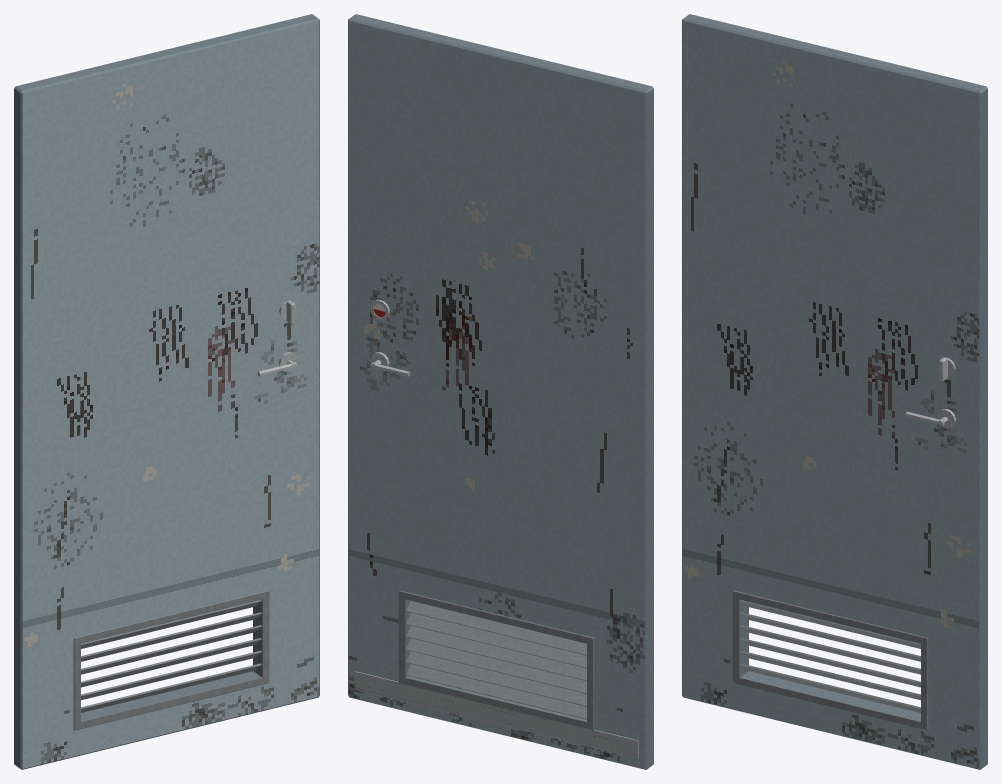
File: door_wc_4.glb
3 renders of one model, left to right at view 1: azimuth 30°, elevation 25°; view 2: azimuth 150°, elevation 25°; view 3: azimuth 330°, elevation 25°, orthographic.
Parts seen in each view (by area): view 1: leaf_body, grille_slats, grille_frame_front; view 2: leaf_body, grille_slats, kick_plate, grille_frame_back; view 3: leaf_body, grille_slats, grille_frame_front.
Boxes of the visible parts, x1,y1,x2,y2 form: leaf_body: (14,14,319,769); grille_slats: (81,600,261,712); grille_frame_front: (73,590,269,730); leaf_body: (348,14,653,769); grille_slats: (406,601,586,719); kick_plate: (354,671,638,758); grille_frame_back: (398,590,594,730); leaf_body: (682,14,987,769); grille_slats: (740,600,920,712); grille_frame_front: (732,590,928,730).
Bounding box in the file's own units: 0.95 × 2.06 × 0.1217.
1 material, 1 textured.
